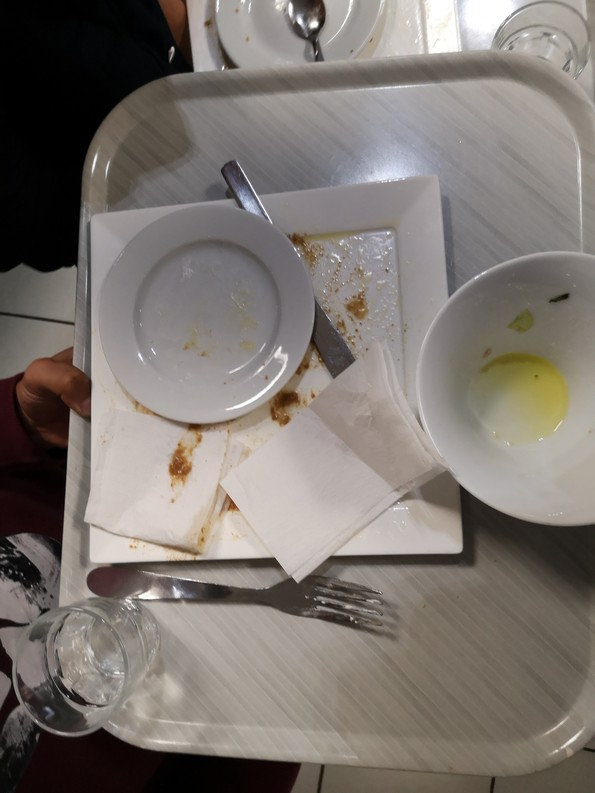cup: (12, 599, 154, 742)
cutlery: (221, 154, 377, 378), (85, 560, 406, 646)
trash: (234, 342, 428, 587), (89, 398, 231, 569)
